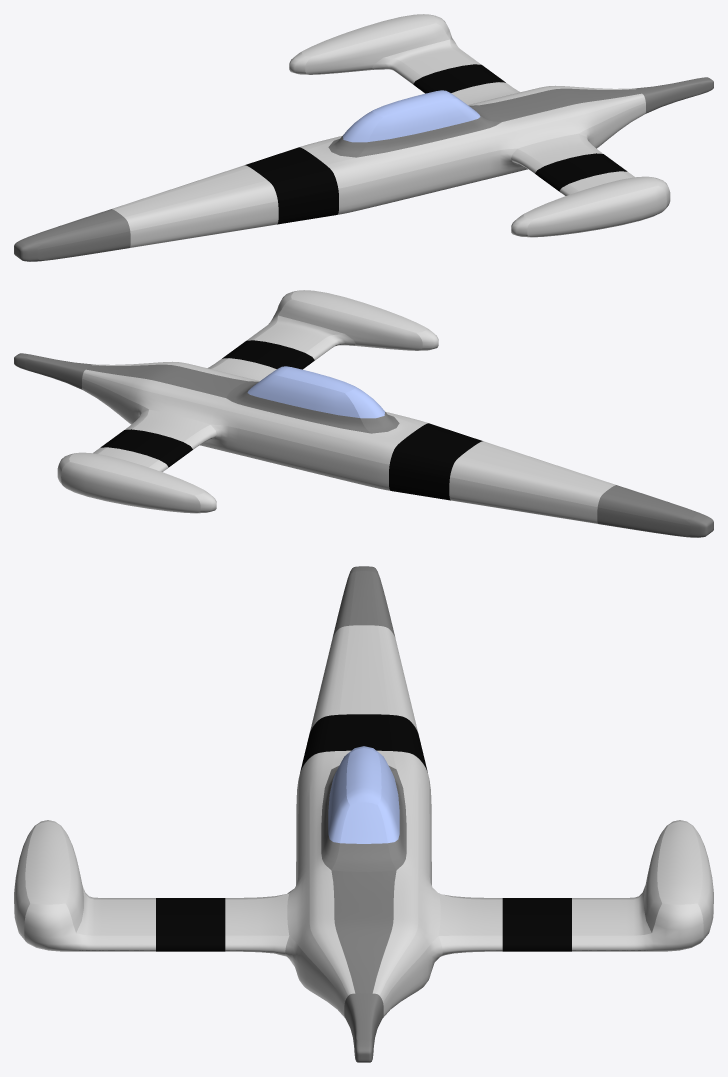
Rendered from PlayerSpaceship.fbx.
3 views of the same model, one above another, from view 1: azimuth 30°, elevation 25°; view 2: azimuth 150°, elevation 25°; view 3: azimuth 270°, elevation 25° (orthographic). The views are drawn at different scales.
Visible parts, largest first — view 1: PlayerSpaceship; view 2: PlayerSpaceship; view 3: PlayerSpaceship.
Part boxes in pixels (bbox=[...]): PlayerSpaceship: bbox=[14, 14, 713, 261]; PlayerSpaceship: bbox=[14, 290, 713, 537]; PlayerSpaceship: bbox=[14, 566, 713, 1062].
Bounding box in the file's own units: 3221 × 350 × 1975.
